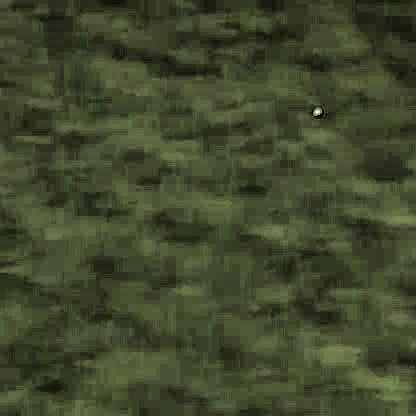golfball: (309, 107, 319, 114)
